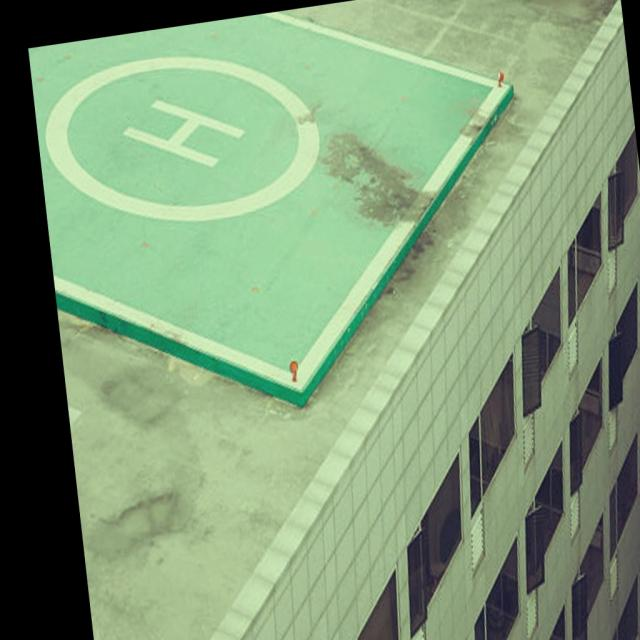helipad: (41, 52, 326, 224)
